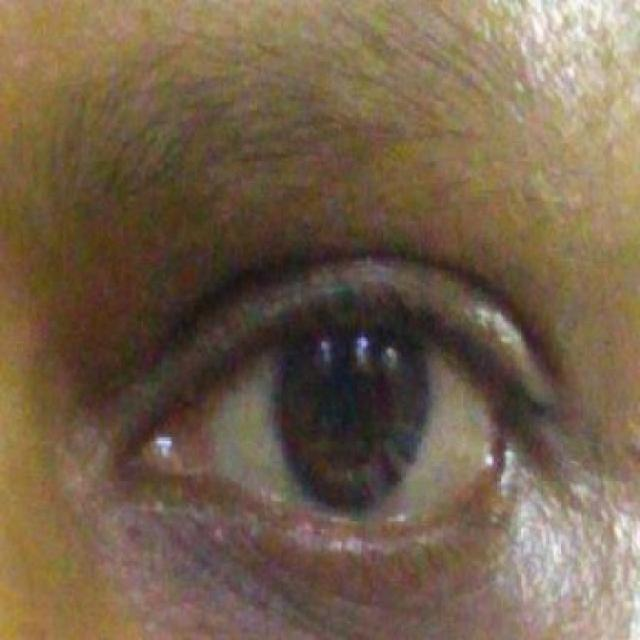awake: (133, 266, 538, 568)
